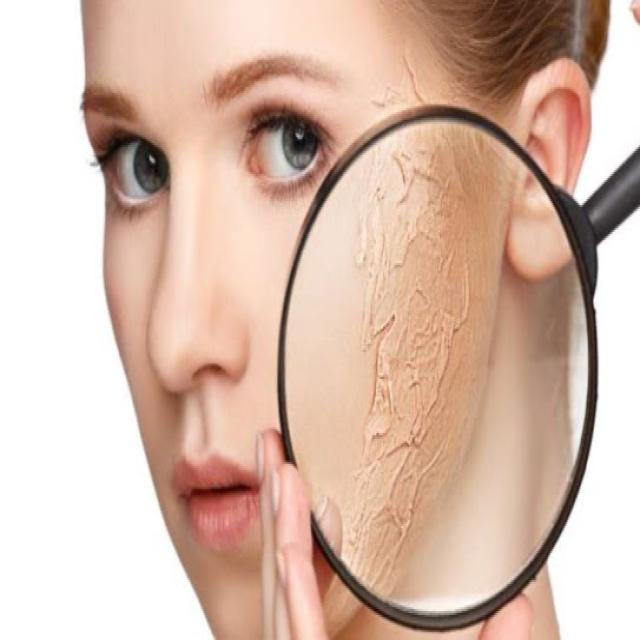Dry-Skin: (330, 65, 499, 640)
